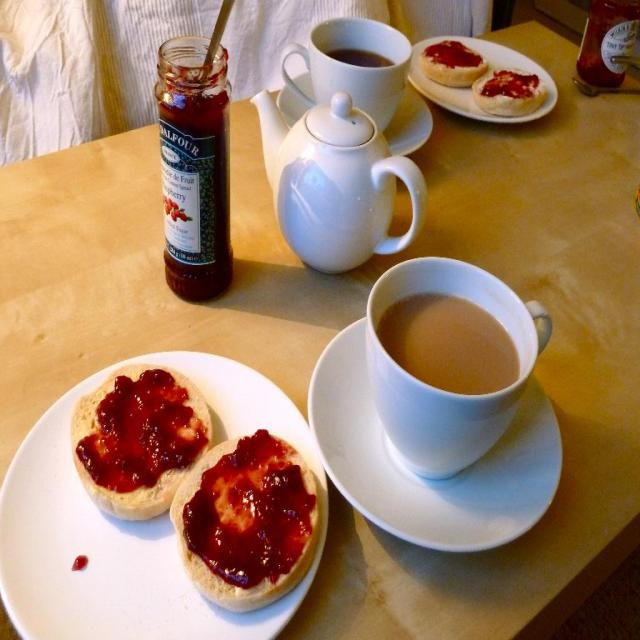Tea: (376, 287, 521, 393), (324, 50, 397, 67)
